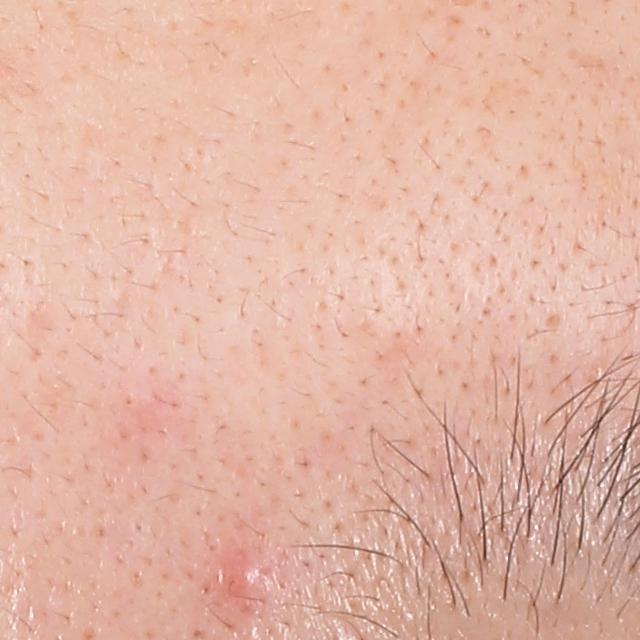comedo: (118, 389, 141, 410)
papule: (212, 546, 275, 610)
